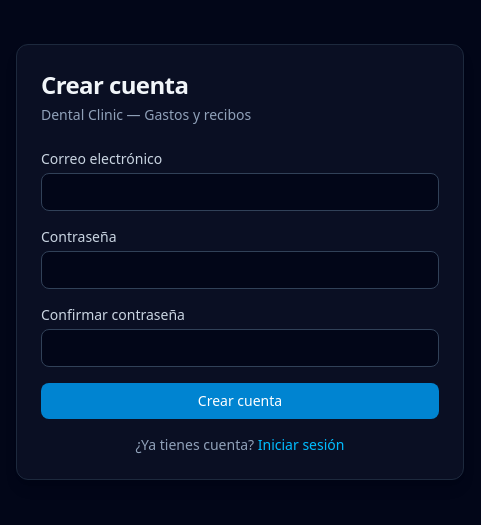
it: RegisterPage › R4: error de Supabase muestra mensaje
The image size is (481, 525).
Expected: the heading "Crear cuenta" is shown, [41,68,188,101]
Step 1. Type "a@b.co" into the field labelled "Correo electrónico" → (240, 192), box [41,173,439,211]
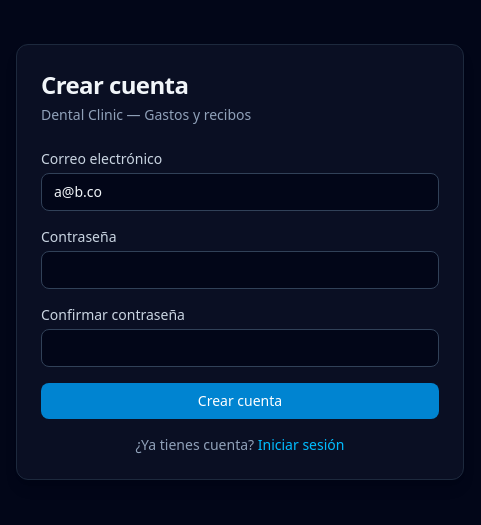
Step 2. Type "secret12" into the password field labelled "Contraseña" → (240, 270), box [41,251,439,289]
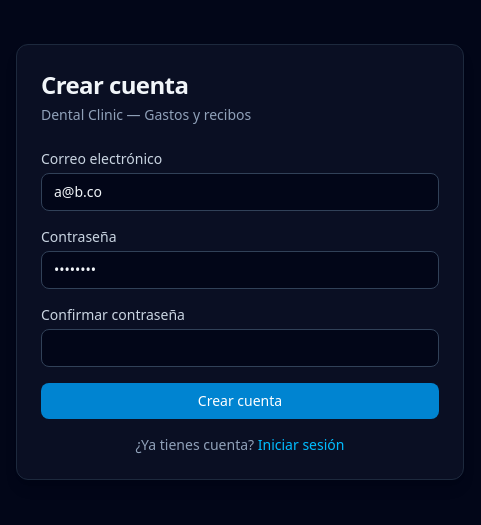
Step 3. Type "secret12" into the password field labelled "Confirmar contraseña" → (240, 348), box [41,329,439,367]
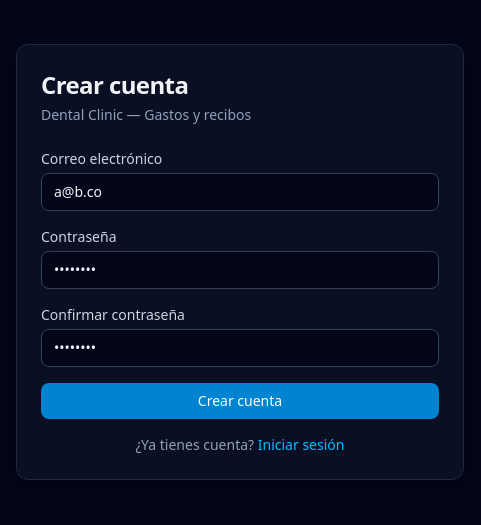
Step 4. Click the button with test id "register-submit" → (240, 401), box [41,383,439,419]
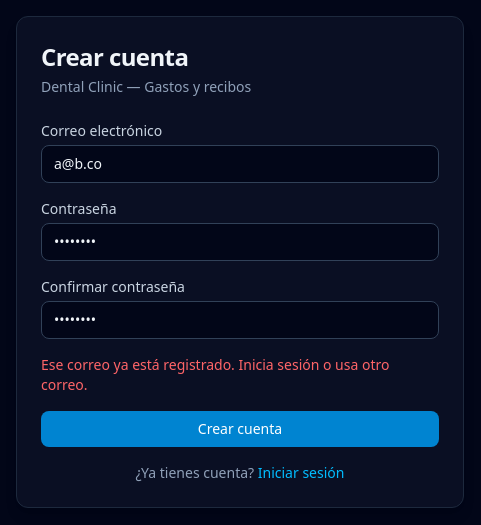
Result: the text "Ese correo ya está registrado. Inicia sesión o usa otro correo." is shown at [41,355,439,395]
